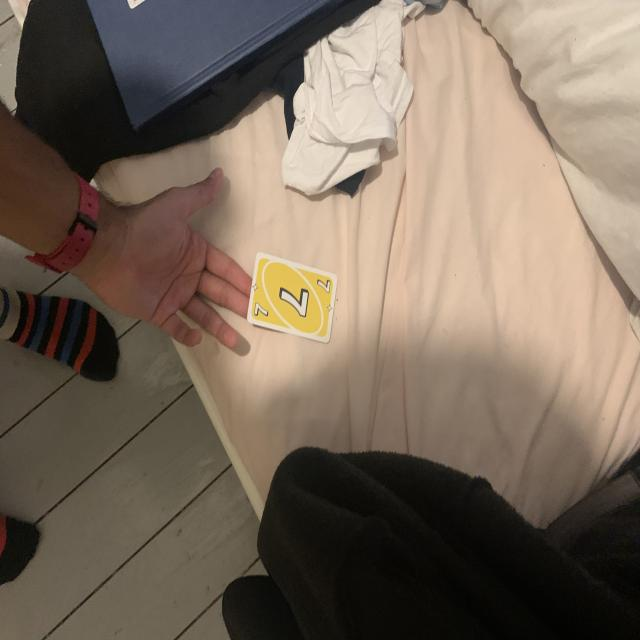lyellow-7: (250, 298, 274, 324)
